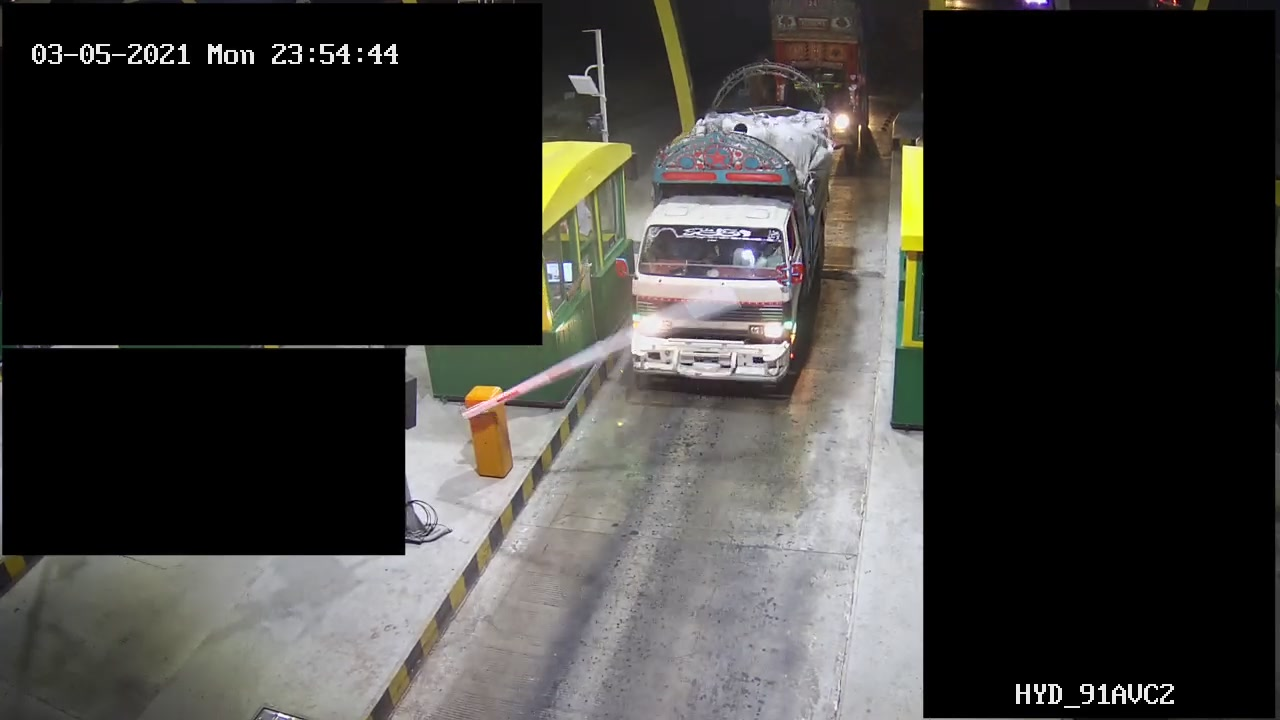F5: (626, 107, 834, 394)
